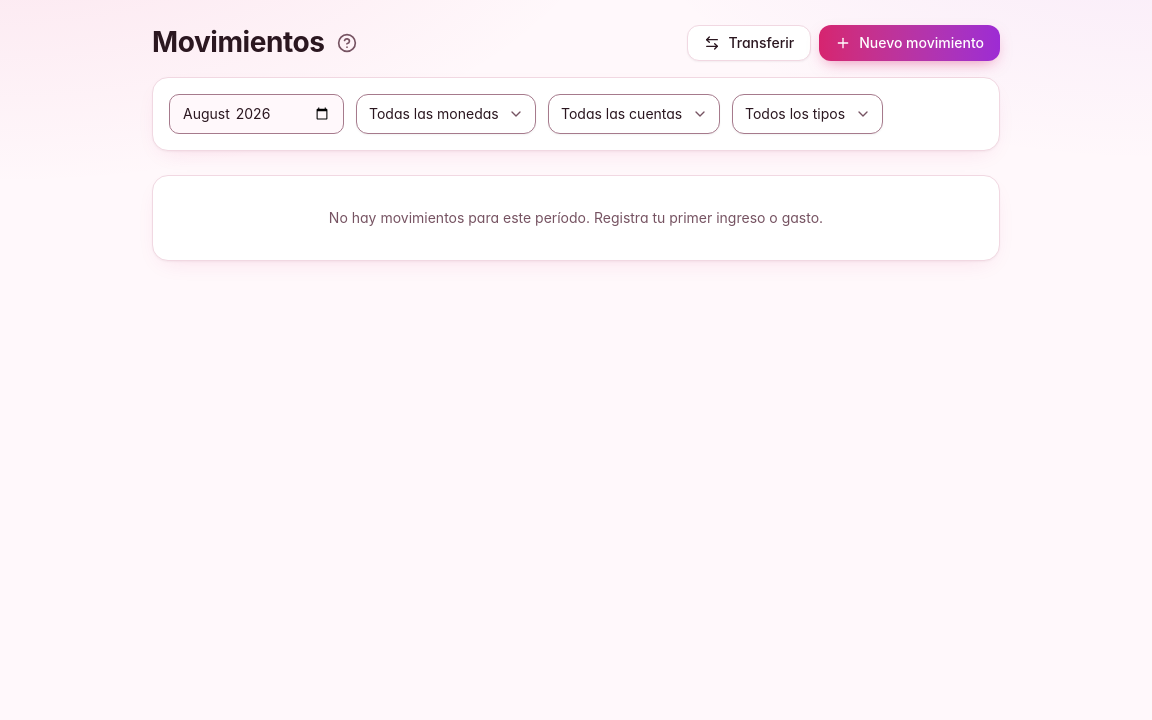
it: Transactions — formularios › el formulario usa la moneda principal hasta que se elige cuenta
Click the button "Nuevo movimiento".
click(910, 43)  # box [819, 25, 1000, 61]
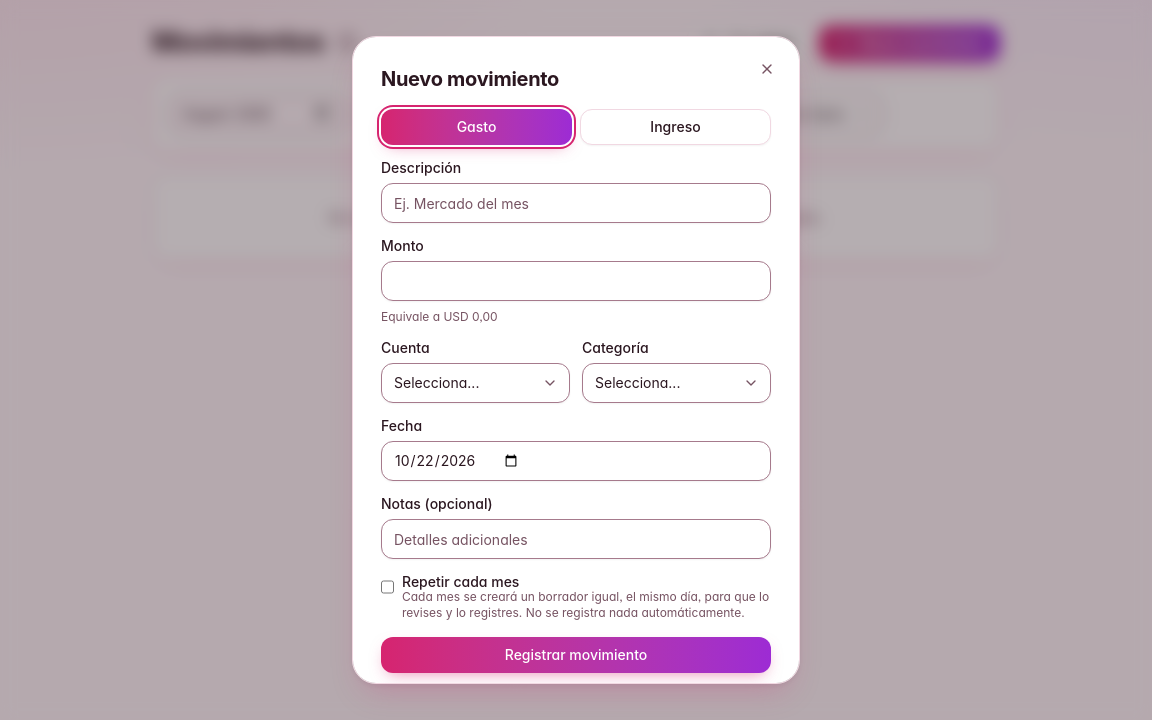
Now the text "Equivale a USD 0,00" is shown, box [381, 309, 498, 324]
Select "Banco" in the dropdown labelled "Cuenta" at (476, 383), box [381, 363, 570, 403]
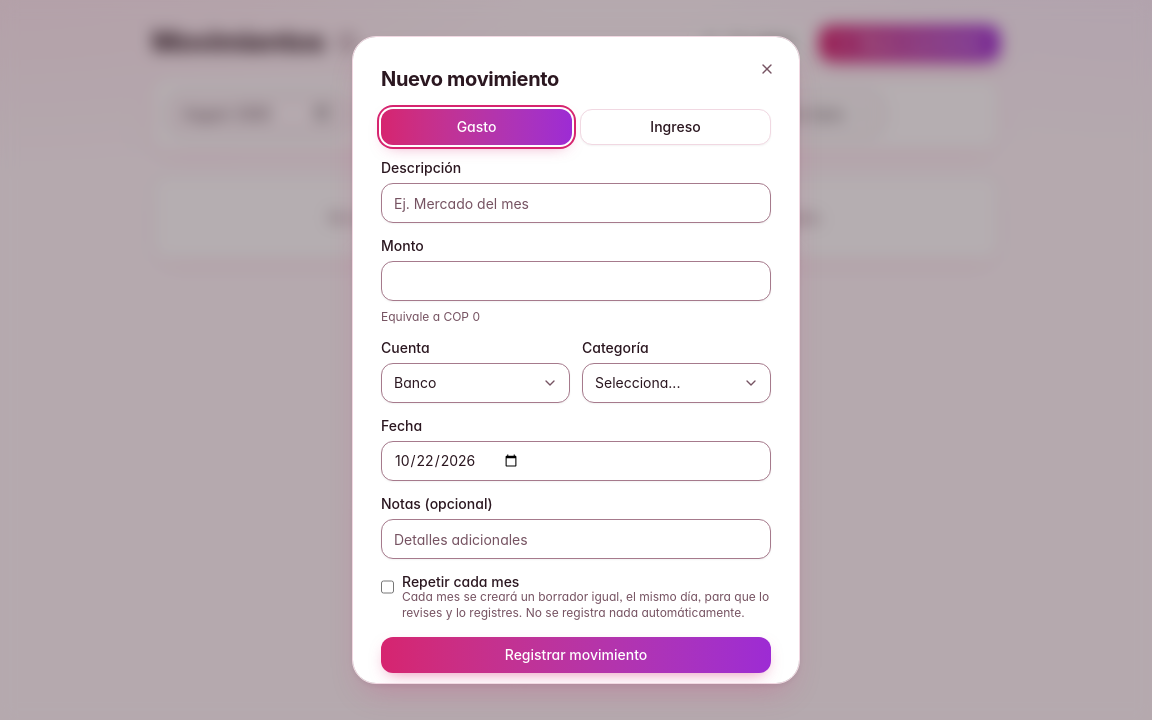
Now the text "Equivale a COP 0" is shown, box [381, 309, 480, 324]
